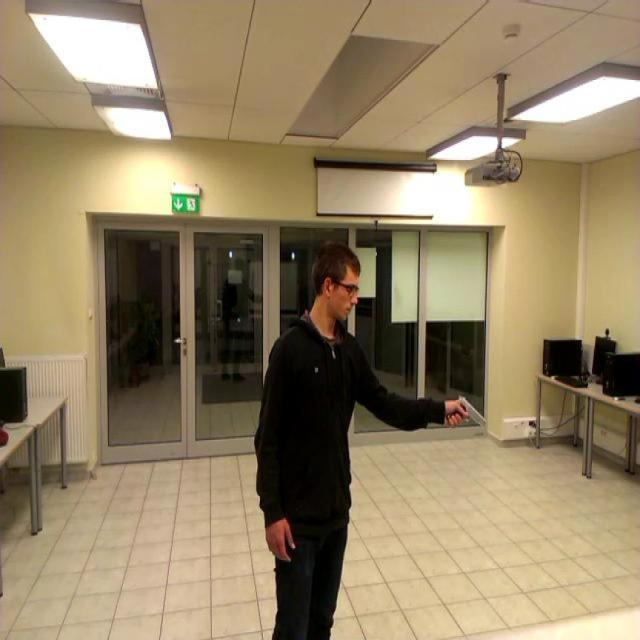pistol: (446, 393, 487, 427)
